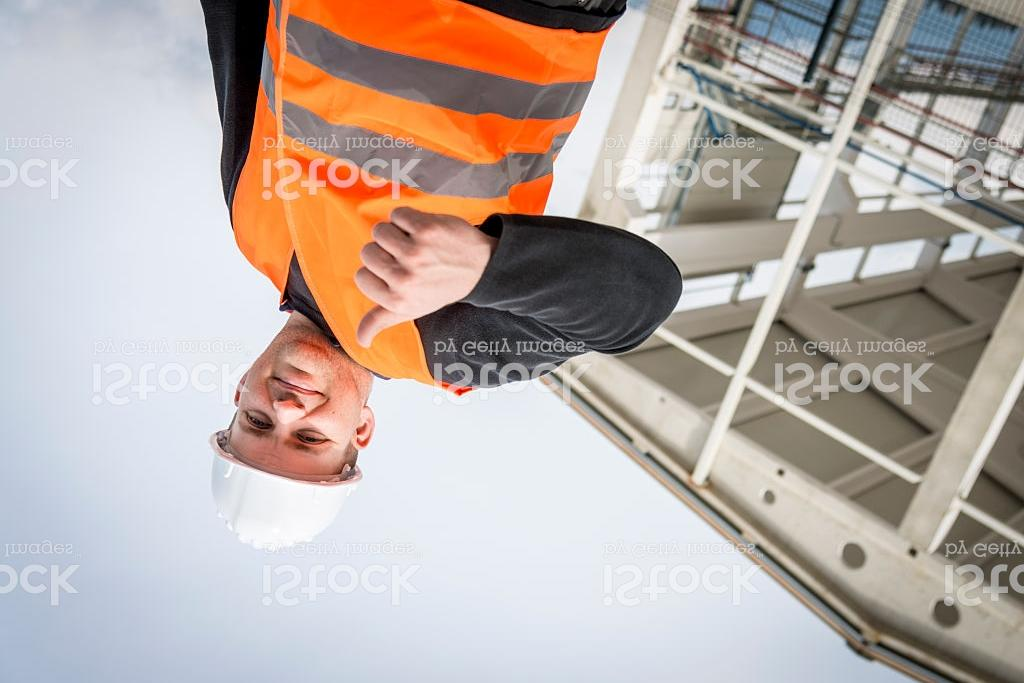thumbsdown: (353, 205, 449, 350)
